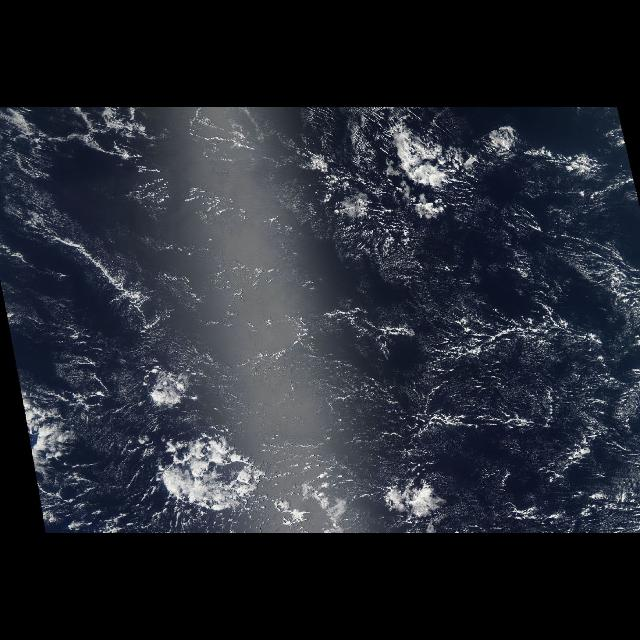Fish: (14, 210, 176, 340)
Gravel: (206, 292, 614, 446)
Sugar: (280, 239, 640, 533)
